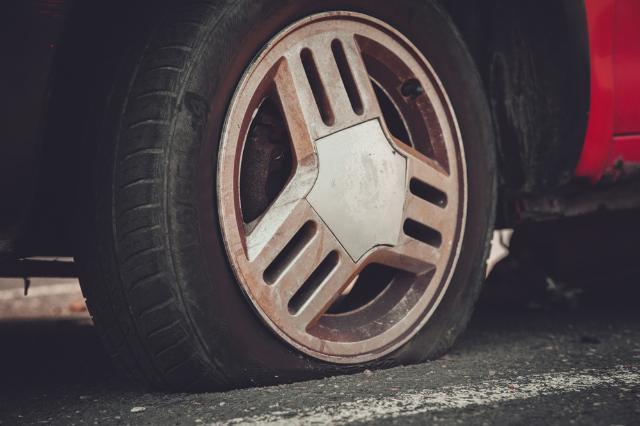tire flat: (74, 0, 495, 398)
